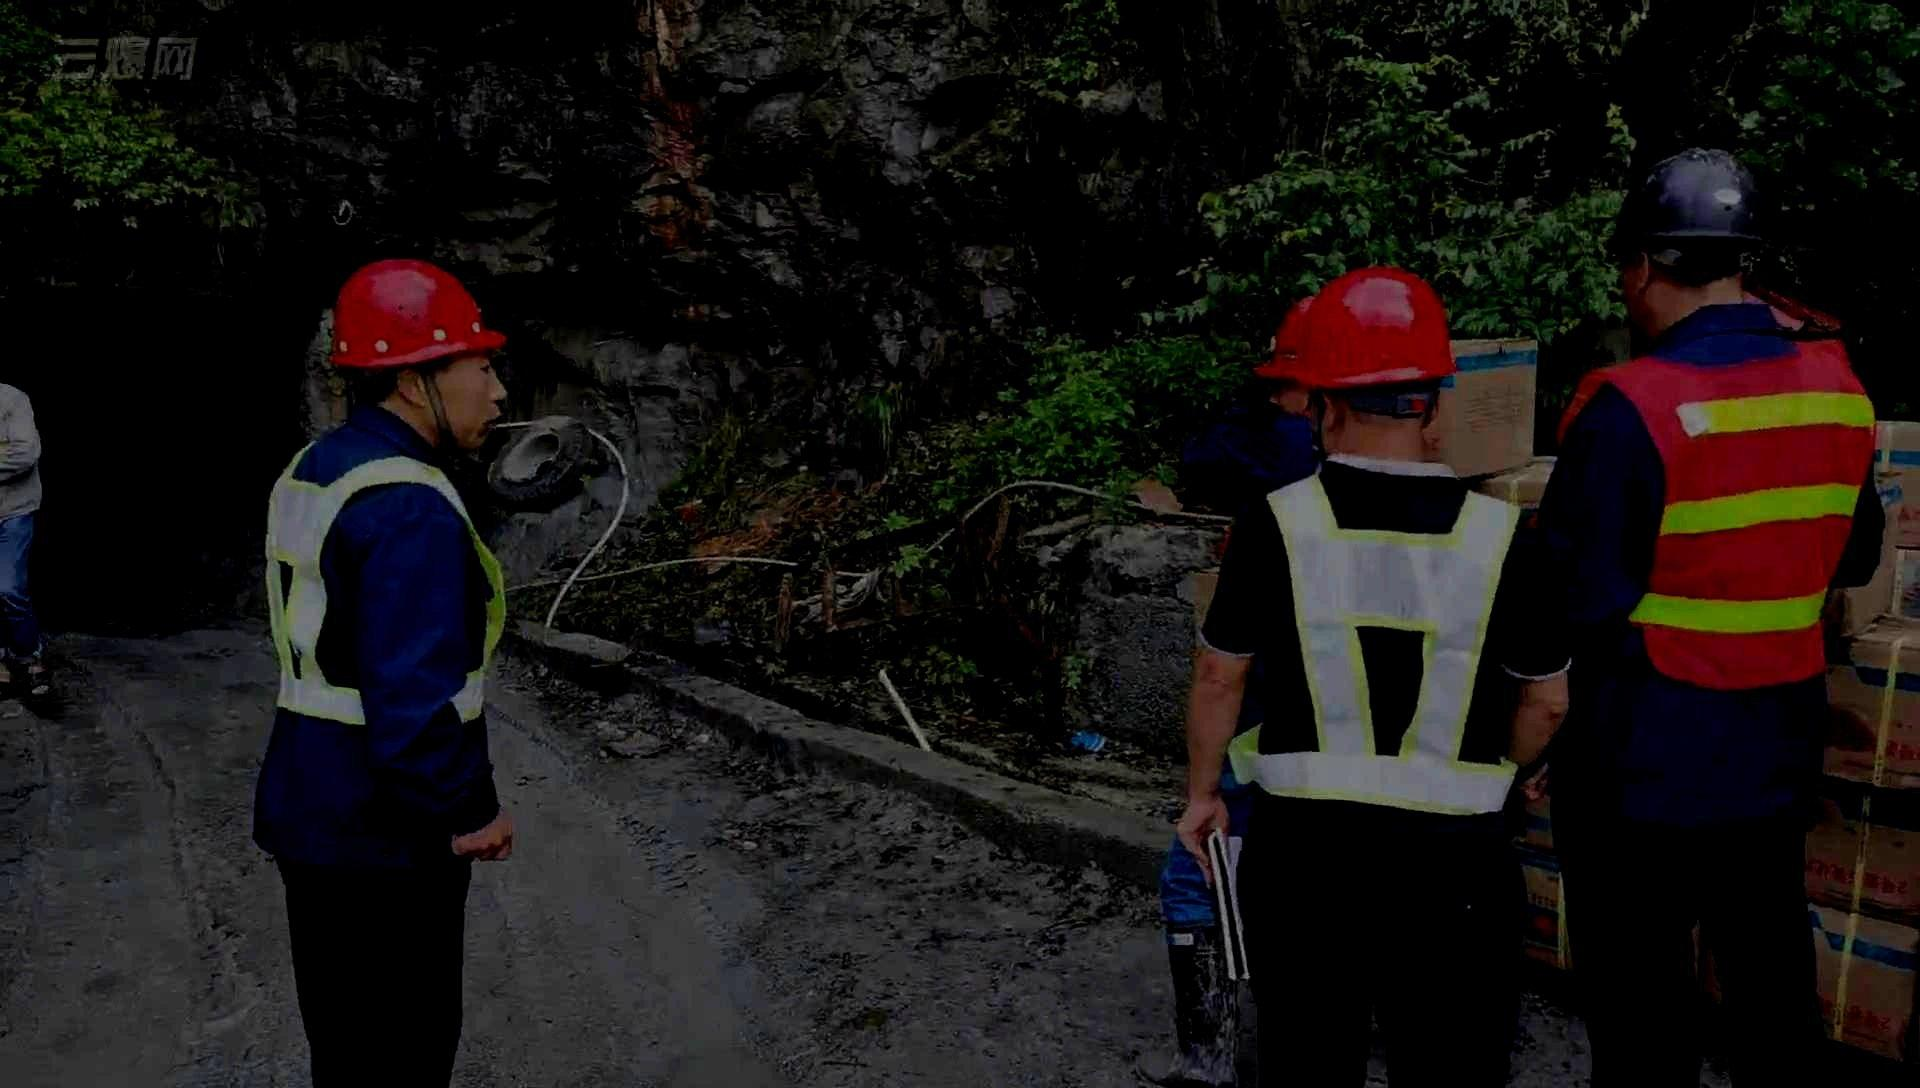helmet: (324, 258, 506, 458), (1292, 264, 1458, 462), (1615, 146, 1762, 336), (1251, 293, 1317, 421)
